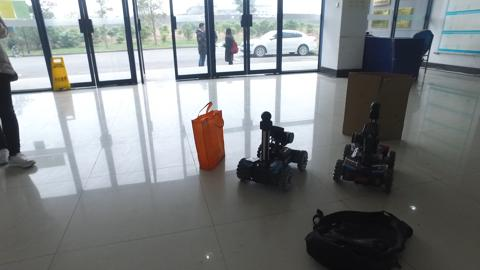bag: (306, 203, 411, 269), (187, 108, 232, 172)
chariot: (334, 105, 399, 190), (239, 110, 307, 189)
